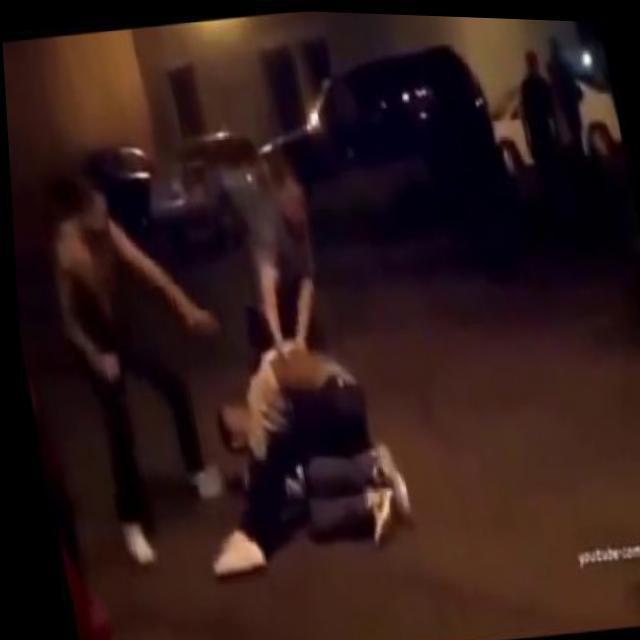fight: (145, 140, 419, 576)
